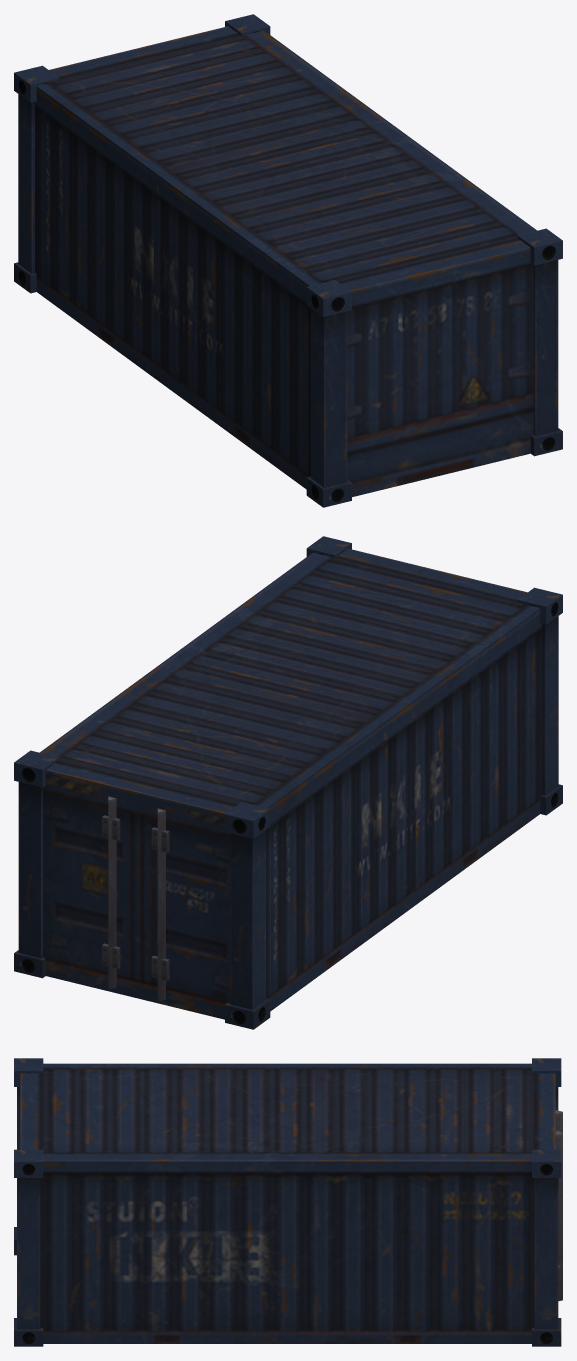
Rendered from Stage-gongchang-jizhuangxiang3.FBX.
3 views of the same model, one above another, from view 1: azimuth 30°, elevation 25°; view 2: azimuth 150°, elevation 25°; view 3: azimuth 270°, elevation 25° (orthographic). The views are drawn at different scales.
Parts seen in each view (by area): view 1: Object37; view 2: Object37; view 3: Object37.
Part boxes in pixels (left/top/right/bottom): Object37: left=14, top=14, right=562, bottom=507; Object37: left=14, top=536, right=562, bottom=1029; Object37: left=14, top=1058, right=562, bottom=1346.
Size of the model in its own units: 4.27 by 9.58 by 3.55.
